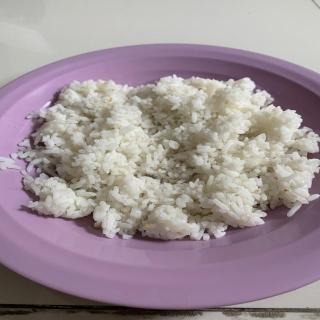Nasi: (18, 77, 320, 243)
